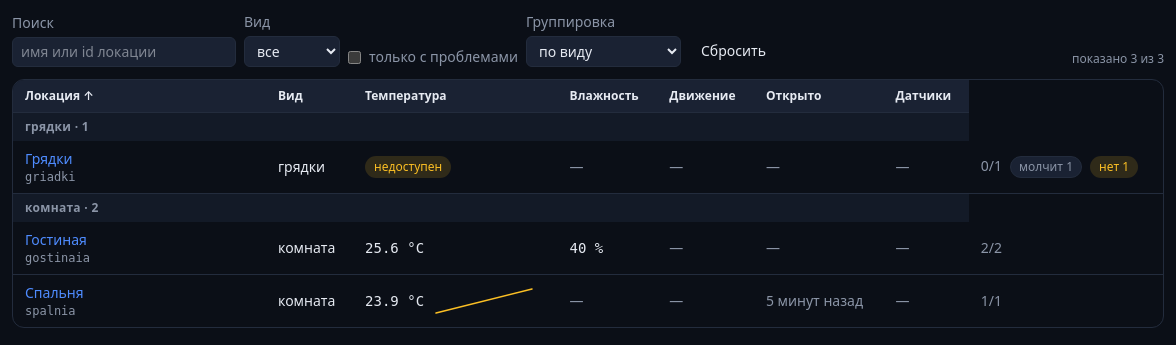
LocationGrid › ищет по имени
Type "гостин" into the field with placeholder "имя или id локации". click: (124, 52)
box: [12,37,236,67]
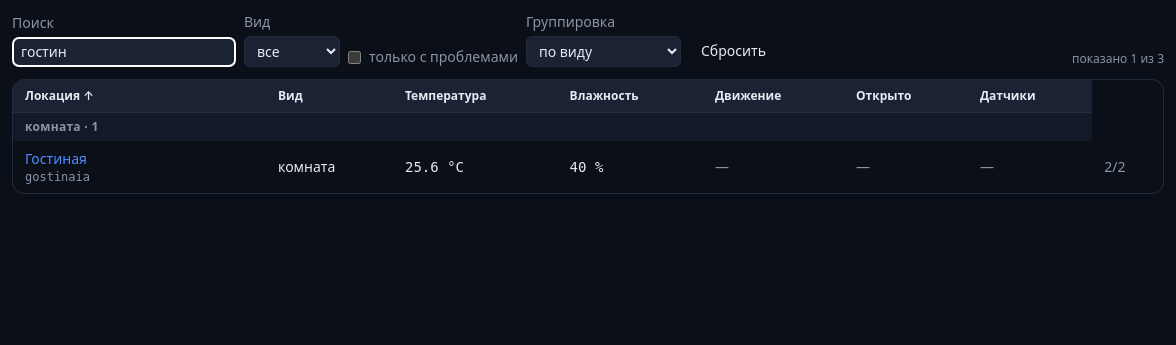
Expected: the link "Гостиная" is shown, [25,149,87,168]
Expected: the link "Спальня" is gone
